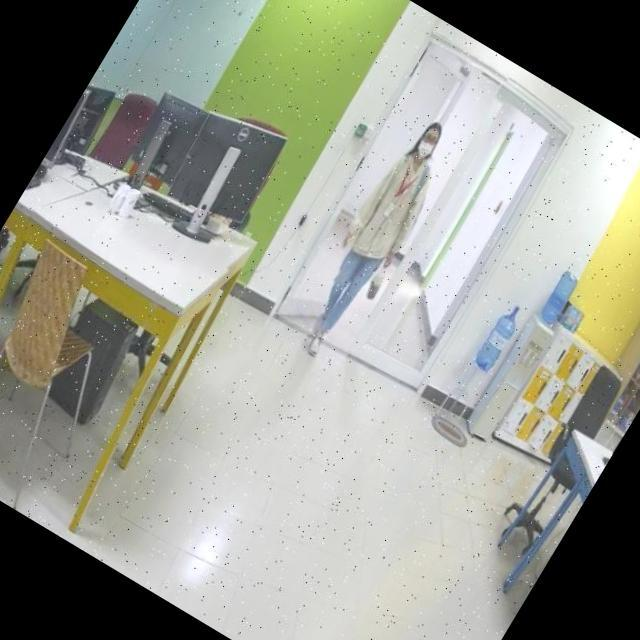person: (280, 110, 470, 371)
